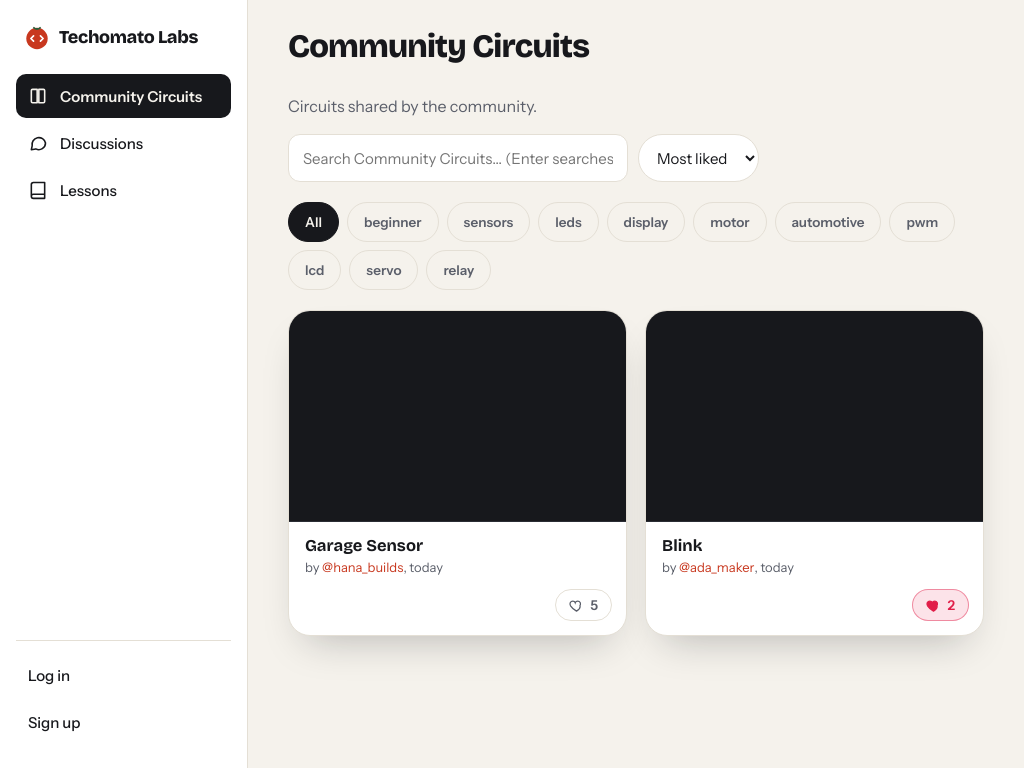
GalleryPage › searches the loaded circuits without fetching again
Expected: the link "Garage Sensor" is shown, [305,536,423,555]
In the field labelled "Search Community Circuits": coordinates (458, 158) [288,134,628,182], type "blink"
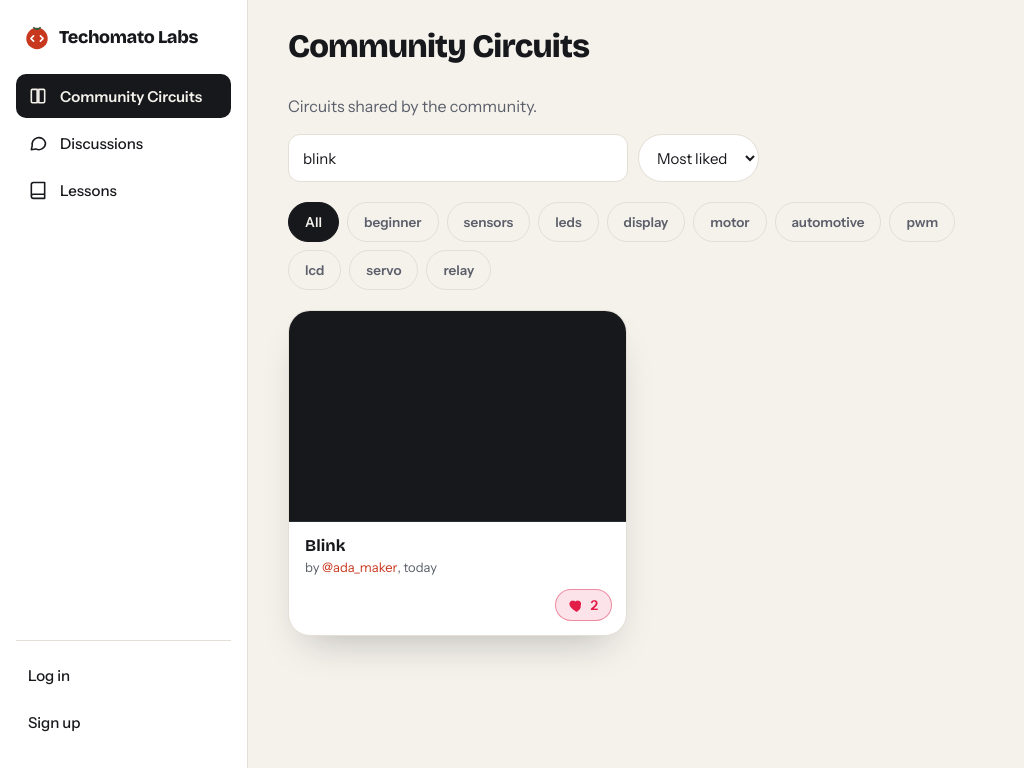
Expected: the link "Blink" is shown, [305,536,345,555]
Result: the link "Garage Sensor" is gone
